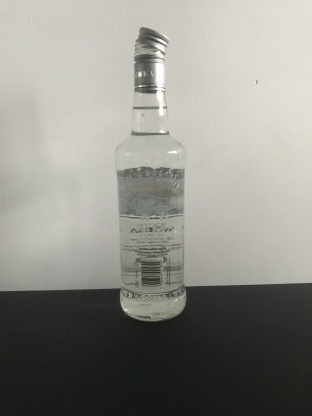nakretka: (132, 24, 170, 94)
